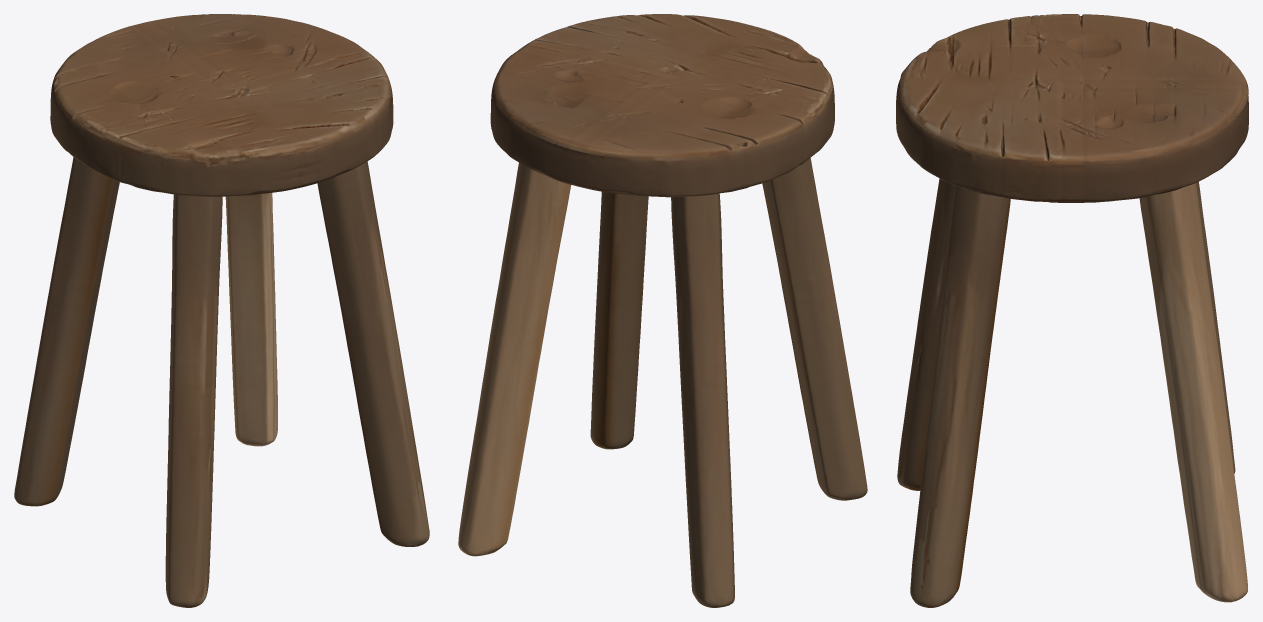
The model's file is silo81_stool.glb.
The picture shows the model from 3 angles, left to right: view 1: azimuth 30°, elevation 25°; view 2: azimuth 150°, elevation 25°; view 3: azimuth 270°, elevation 25°; orthographic projection. The views are drawn at different scales.
Visible parts, largest first — view 1: tripo_node_898d5c7b-4513-4216-bf7f-8eb079946915; view 2: tripo_node_898d5c7b-4513-4216-bf7f-8eb079946915; view 3: tripo_node_898d5c7b-4513-4216-bf7f-8eb079946915.
Boxes of the visible parts, x1,y1,x2,y2 form: tripo_node_898d5c7b-4513-4216-bf7f-8eb079946915: (14, 14, 429, 607); tripo_node_898d5c7b-4513-4216-bf7f-8eb079946915: (458, 14, 867, 607); tripo_node_898d5c7b-4513-4216-bf7f-8eb079946915: (896, 14, 1248, 607).
Size of the model in its own units: 0.6856 by 0.9799 by 0.6858.
Materials: 1 (1 with a texture image).
